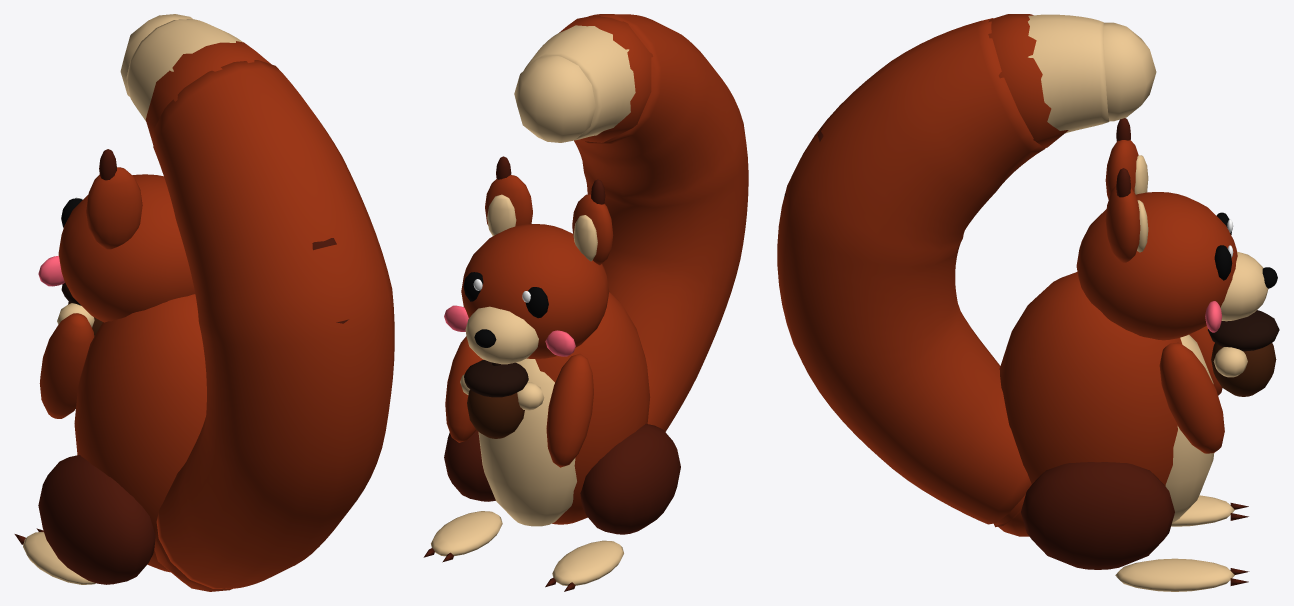
File: Squirrel.obj
The picture shows the model from 3 angles, left to right: view 1: azimuth 30°, elevation 25°; view 2: azimuth 150°, elevation 25°; view 3: azimuth 270°, elevation 25°; orthographic projection. The views are drawn at different scales.
Visible parts, largest first — view 1: Squirrel; view 2: Squirrel; view 3: Squirrel.
Part boxes in pixels (left/top/right/bottom): Squirrel: left=14, top=14, right=394, bottom=591; Squirrel: left=423, top=14, right=748, bottom=591; Squirrel: left=777, top=14, right=1279, bottom=591.
Size of the model in its own units: 3.1 by 6.87 by 5.86.
